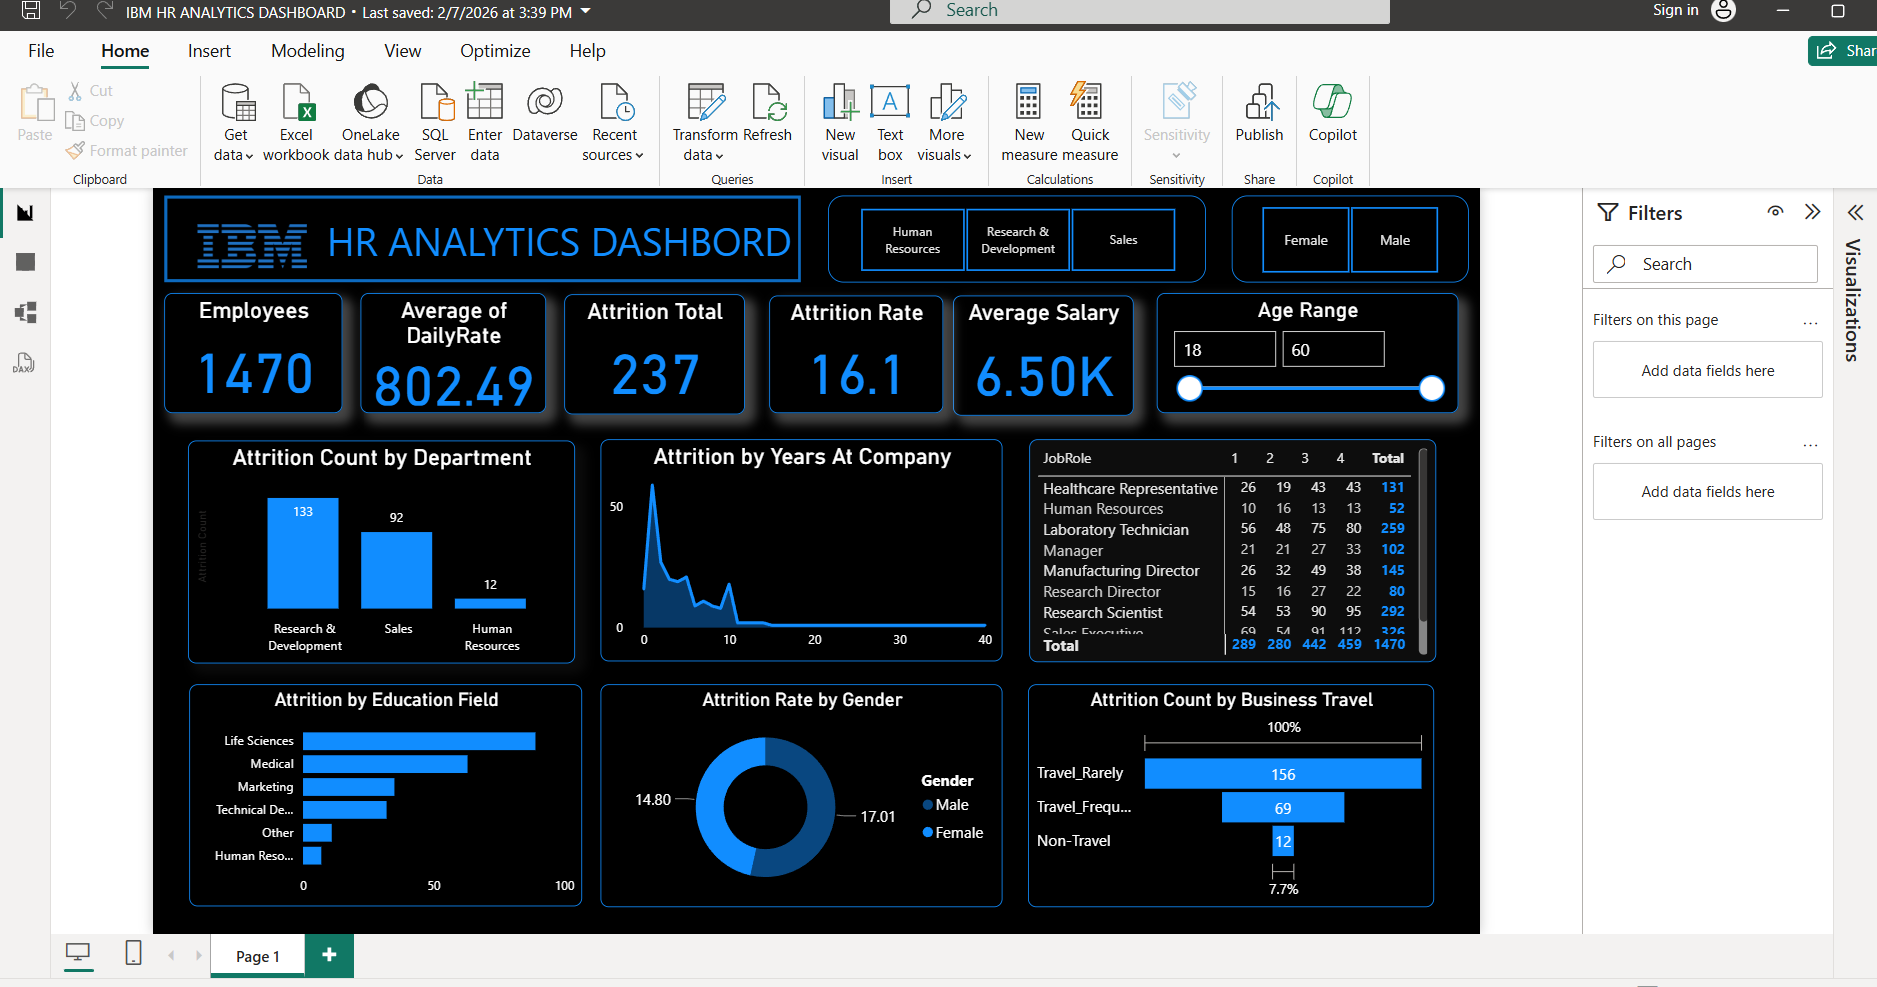

This screenshot's page, from the dashboard's own definition file:
{"tool":"powerbi","page":{"name":"Page 1","canvas":[1280,720],"ordinal":0},"visuals":[{"type":"slicer","title":"Gender","fields":{"Values":["WA_Fn-UseC_-HR-Employee-Attrition.Gender"]},"box":[1041.5,6.9,229.2,83.7],"z":0},{"type":"image","box":[27.4,30.2,135.8,52.1],"z":1000},{"type":"shape","box":[11,6.9,614.8,83.7],"z":2000},{"type":"textbox","box":[163.3,20.6,500.9,70],"z":3000},{"type":"slicer","fields":{"Values":["WA_Fn-UseC_-HR-Employee-Attrition.Department"]},"box":[651.8,6.9,365,83.7],"z":4000},{"type":"card","title":"Employees","fields":{"Values":["CountNonNull(WA_Fn-UseC_-HR-Employee-Attrition.EmployeeCount)"]},"box":[10.7,101.3,171.7,115.6],"z":5000},{"type":"card","title":"Average of DailyRate","fields":{"Values":["Avg(WA_Fn-UseC_-HR-Employee-Attrition.DailyRate)"]},"box":[200.3,101.3,178.8,115.6],"z":6000},{"type":"card","title":"Attrition Total","fields":{"Values":["WA_Fn-UseC_-HR-Employee-Attrition.Attrition Count"]},"box":[396.9,102.5,174,115.6],"z":7000},{"type":"card","title":"Average Salary","fields":{"Values":["Avg(WA_Fn-UseC_-HR-Employee-Attrition.MonthlyIncome)"]},"box":[772.4,103.7,174,115.6],"z":8000},{"type":"slicer","title":"Age Range","fields":{"Values":["WA_Fn-UseC_-HR-Employee-Attrition.Age"]},"box":[969.1,101.3,290.9,115.6],"z":9000},{"type":"lineStackedColumnComboChart","title":"Attrition Count by Department","fields":{"Category":["WA_Fn-UseC_-HR-Employee-Attrition.Department"],"Y":["WA_Fn-UseC_-HR-Employee-Attrition.Attrition Count"]},"box":[34.3,244.3,373.2,215.4],"z":10000},{"type":"areaChart","title":" Attrition by Years At Company","fields":{"Category":["WA_Fn-UseC_-HR-Employee-Attrition.YearsAtCompany"],"Y":["WA_Fn-UseC_-HR-Employee-Attrition.Attrition Count"]},"box":[432.2,242.9,388.3,214.1],"z":11000},{"type":"pivotTable","title":"Attrition by Salary","fields":{"Rows":["WA_Fn-UseC_-HR-Employee-Attrition.JobRole"],"Columns":["WA_Fn-UseC_-HR-Employee-Attrition.JobSatisfaction"],"Values":["CountNonNull(WA_Fn-UseC_-HR-Employee-Attrition.Attrition)"]},"box":[845.3,242.9,392.5,215.4],"z":12000},{"type":"clusteredBarChart","title":" Attrition by Education Field","fields":{"Category":["WA_Fn-UseC_-HR-Employee-Attrition.EducationField"],"Y":["WA_Fn-UseC_-HR-Employee-Attrition.Attrition Count"]},"box":[34.6,479.2,379.1,214.6],"z":13000},{"type":"donutChart","title":"Attrition Rate by Gender","fields":{"Category":["WA_Fn-UseC_-HR-Employee-Attrition.Gender"],"Y":["WA_Fn-UseC_-HR-Employee-Attrition.Attrition Rate %"]},"box":[432,479,388,215],"z":14000},{"type":"funnel","title":" Attrition Count by Business Travel","fields":{"Category":["WA_Fn-UseC_-HR-Employee-Attrition.BusinessTravel"],"Y":["WA_Fn-UseC_-HR-Employee-Attrition.Attrition Count"]},"box":[845,479,392,215],"z":15000},{"type":"card","title":"Attrition Rate","fields":{"Values":["WA_Fn-UseC_-HR-Employee-Attrition.Attrition Rate %"]},"box":[594.8,103.7,168.1,113.2],"z":16000}]}

Visuals, with their boxes on the page's 1280x720 design canvas (x1, y1, x2, y2). These are canvas units, not pixel positions in the 1877x987 screenshot, which may show the page scaled, cropped or inside an application window:
"Gender" slicer: (left=1042, top=7, right=1271, bottom=91)
image: (left=27, top=30, right=163, bottom=82)
shape: (left=11, top=7, right=626, bottom=91)
textbox: (left=163, top=21, right=664, bottom=91)
slicer - WA_Fn-UseC_-HR-Employee-Attrition.Department: (left=652, top=7, right=1017, bottom=91)
"Employees" card: (left=11, top=101, right=182, bottom=217)
"Average of DailyRate" card: (left=200, top=101, right=379, bottom=217)
"Attrition Total" card: (left=397, top=102, right=571, bottom=218)
"Average Salary" card: (left=772, top=104, right=946, bottom=219)
"Age Range" slicer: (left=969, top=101, right=1260, bottom=217)
"Attrition Count by Department" lineStackedColumnComboChart: (left=34, top=244, right=408, bottom=460)
" Attrition by Years At Company" areaChart: (left=432, top=243, right=820, bottom=457)
"Attrition by Salary" pivotTable: (left=845, top=243, right=1238, bottom=458)
" Attrition by Education Field" clusteredBarChart: (left=35, top=479, right=414, bottom=694)
"Attrition Rate by Gender" donutChart: (left=432, top=479, right=820, bottom=694)
" Attrition Count by Business Travel" funnel: (left=845, top=479, right=1237, bottom=694)
"Attrition Rate" card: (left=595, top=104, right=763, bottom=217)
